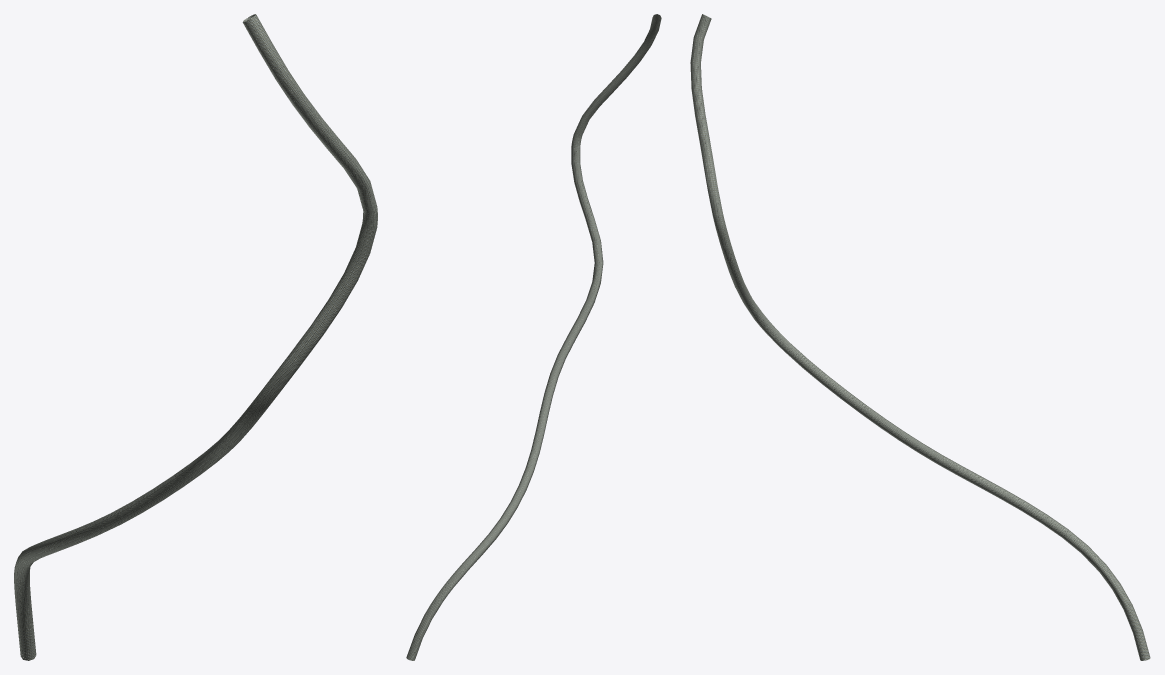
The model's file is microtubule52.fbx.
The picture shows the model from 3 angles, left to right: view 1: azimuth 30°, elevation 25°; view 2: azimuth 150°, elevation 25°; view 3: azimuth 270°, elevation 25°; orthographic projection. The views are drawn at different scales.
Visible parts, largest first — view 1: microtubule52; view 2: microtubule52; view 3: microtubule52.
Boxes of the visible parts, x1,y1,x2,y2 form: microtubule52: [14, 14, 377, 660]; microtubule52: [406, 14, 661, 660]; microtubule52: [690, 14, 1150, 660].
Bounding box in the file's own units: 1570 × 9469 × 6442.
Materials: 1 (1 with a texture image).
